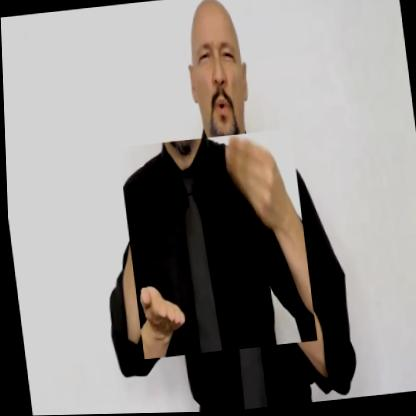Expensive: (117, 130, 315, 360)
